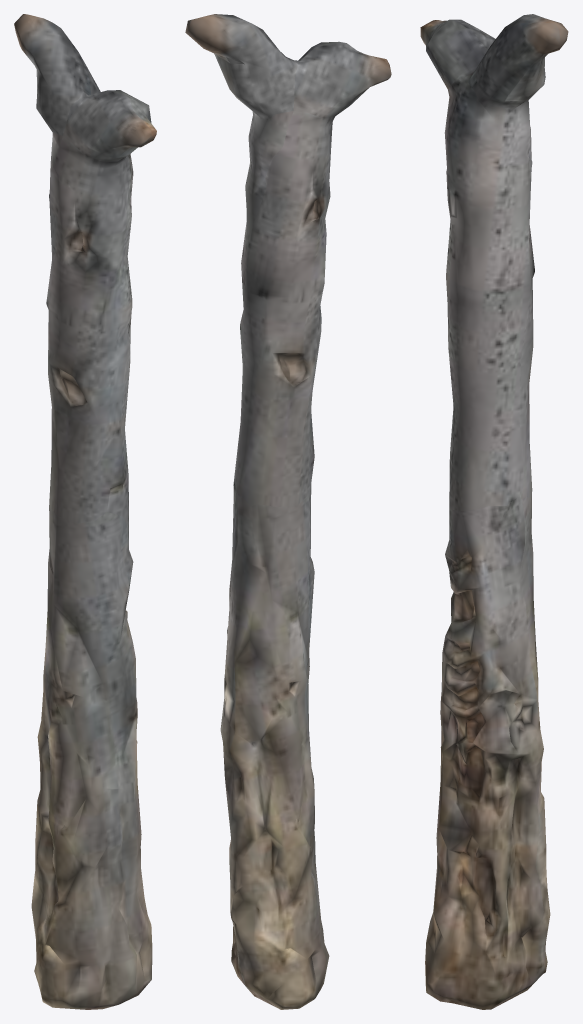
Rendered from trunk-quiver-dead.lite.9e0678f4.glb.
The picture shows the model from 3 angles, left to right: view 1: azimuth 90°, elevation 25°; view 2: azimuth 150°, elevation 25°; view 3: azimuth 270°, elevation 25°; orthographic projection. The views are drawn at different scales.
Parts seen in each view (by area): view 1: model; view 2: model; view 3: model.
Boxes of the visible parts, bbox=[...] form: model: bbox=[14, 14, 156, 1009]; model: bbox=[185, 14, 391, 1009]; model: bbox=[420, 14, 568, 1009].
Bounding box in the file's own units: 0.3053 × 1.99 × 0.2681.
Materials: 1 (1 with a texture image).
